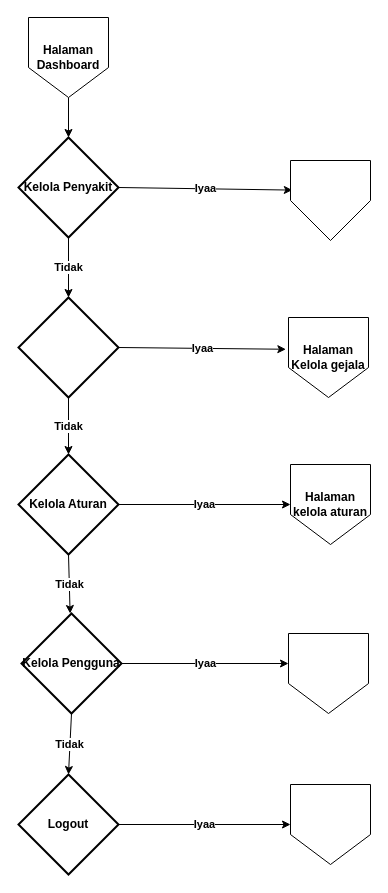
Some shapes in this 388 by 893 pixel diagram are drawn without their labels. Each missing label, with the centre of its shape:
"Halaman kelola pengguna" goes at (328,673).
"Halaman Kelola Penyakit" goes at (330,200).
"Halaman Login" goes at (330,824).
"Kelola Gejala" goes at (68,347).
